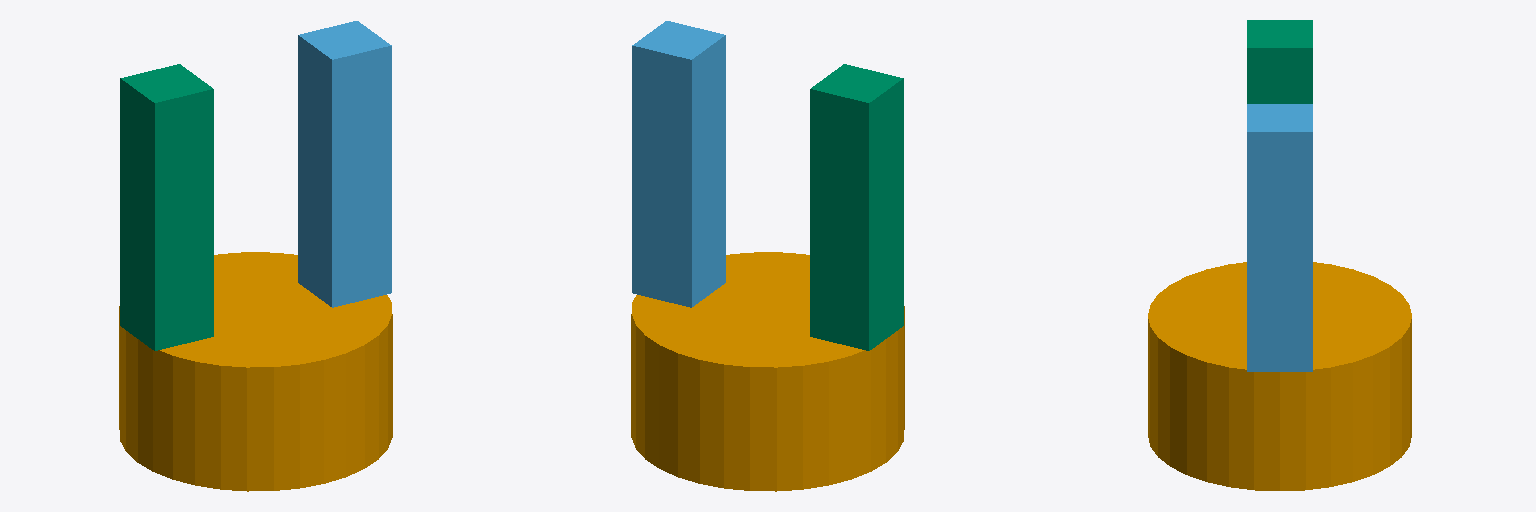
The robot description file, URDF, robot "simple_gripper":
<?xml version="1.0"?>
<robot name="simple_gripper">
  <link name="palm">
    <visual>
      <geometry>
        <cylinder length="0.04" radius="0.04"/>
      </geometry>
      <origin rpy="0 0 0" xyz="0 0 0.02"/>
    </visual>
    <collision>
      <geometry>
        <cylinder length="0.04" radius="0.04"/>
      </geometry>
    </collision>
    <inertial>
      <mass value="0.1"/>
      <inertia ixx="0.001" ixy="0.0" ixz="0.0" iyy="0.001" iyz="0.0" izz="0.001"/>
    </inertial>
  </link>

  <link name="finger1">
    <visual>
      <geometry>
        <box size="0.02 0.02 0.08"/>
      </geometry>
      <origin rpy="0 0 0" xyz="0 0 0.04"/>
    </visual>
    <collision>
      <geometry>
        <box size="0.02 0.02 0.08"/>
      </geometry>
    </collision>
    <inertial>
      <mass value="0.1"/>
      <inertia ixx="0.001" ixy="0.0" ixz="0.0" iyy="0.001" iyz="0.0" izz="0.001"/>
    </inertial>
  </link>

  <link name="finger2">
    <visual>
      <geometry>
        <box size="0.02 0.02 0.08"/>
      </geometry>
      <origin rpy="0 0 0" xyz="0 0 0.04"/>
    </visual>
    <collision>
      <geometry>
        <box size="0.02 0.02 0.08"/>
      </geometry>
    </collision>
    <inertial>
      <mass value="0.1"/>
      <inertia ixx="0.001" ixy="0.0" ixz="0.0" iyy="0.001" iyz="0.0" izz="0.001"/>
    </inertial>
  </link>

  <joint name="palm_to_finger1" type="fixed">
    <parent link="palm"/>
    <child link="finger1"/>
    <origin xyz="0.03 0 0.04"/>
  </joint>

  <joint name="palm_to_finger2" type="prismatic">
    <parent link="palm"/>
    <child link="finger2"/>
    <limit effort="1000.0" lower="0.0" upper="0.035" velocity="0.5"/>
    <origin xyz="-0.03 0 0.04"/>
  </joint>

  <transmission name="finger_trans">
    <type>transmission_interface/SimpleTransmission</type>
    <actuator name="finger_motor">
      <mechanicalReduction>1</mechanicalReduction>
    </actuator>
    <joint name="palm_to_finger2">
      <hardwareInterface>hardware_interface/PositionJointInterface</hardwareInterface>
    </joint>
  </transmission>

</robot>

--- What the picture shows (computed from the rendered views, not written in the file) ---
3 views of the same robot in one strip: view 1: azimuth 30°, elevation 25°; view 2: azimuth 150°, elevation 25°; view 3: azimuth 270°, elevation 25° (orthographic).
Model simple_gripper with 3 links and 2 joints (1 prismatic, 1 fixed), rooted at palm, posed all joints at 0.
Visible links, largest first — view 1: palm, finger2, finger1; view 2: palm, finger2, finger1; view 3: palm, finger1, finger2.
Link boxes in pixels (x1,y1,x2,y2): palm: (119, 252, 392, 491); finger2: (120, 64, 213, 350); finger1: (298, 21, 391, 307); palm: (631, 252, 904, 491); finger2: (810, 64, 903, 350); finger1: (632, 21, 725, 307); palm: (1148, 262, 1411, 490); finger1: (1247, 104, 1312, 371); finger2: (1247, 20, 1312, 103).
Size in the robot's own frame: 0.08 by 0.08 by 0.12 metres.
Geometry: primitives only (box / cylinder / sphere), no mesh files.